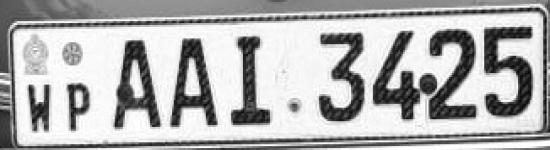2: (422, 24, 480, 122)
4: (372, 24, 422, 127)
5: (480, 19, 538, 121)
A: (164, 33, 224, 135), (105, 33, 163, 137)
I: (304, 27, 373, 129), (228, 31, 285, 136)
P: (62, 77, 93, 132)
W: (20, 80, 57, 138)
